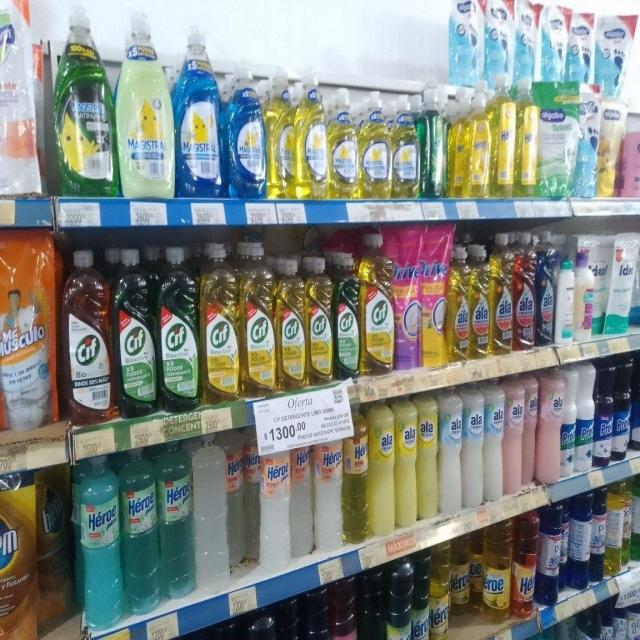ala_conc_amarillo: (490, 232, 512, 354), (447, 245, 469, 362), (469, 244, 490, 359)
ala_conc_azul: (537, 231, 555, 347)
ala_conc_rojo: (514, 230, 536, 351)
ala_crem_amarillo: (369, 398, 395, 538), (395, 393, 417, 530), (418, 391, 438, 522)
ala_crem_blanco: (439, 386, 462, 515), (462, 382, 483, 508), (484, 379, 504, 502)
ala_crem_rosado: (538, 366, 563, 484), (504, 375, 523, 496), (523, 372, 537, 488)
cif_conc_bot_amarilla: (201, 241, 239, 402), (240, 240, 276, 397), (362, 229, 394, 375), (276, 255, 306, 392), (306, 254, 332, 387)
cif_conc_botella_roja: (62, 248, 112, 426)
cif_conc_botella_verde: (114, 246, 156, 417), (158, 244, 199, 412), (334, 250, 360, 380)
heroe: (77, 453, 121, 631), (122, 445, 158, 615), (159, 439, 194, 599), (259, 428, 290, 572), (314, 418, 342, 553), (344, 404, 368, 544), (290, 426, 313, 562), (227, 428, 246, 572), (429, 543, 449, 640), (451, 536, 470, 624)
magistral_con_amarillo: (296, 78, 327, 200), (267, 72, 295, 198), (328, 86, 358, 200), (359, 90, 390, 200), (392, 93, 418, 199)
magistral_con_azul: (227, 66, 265, 199)
